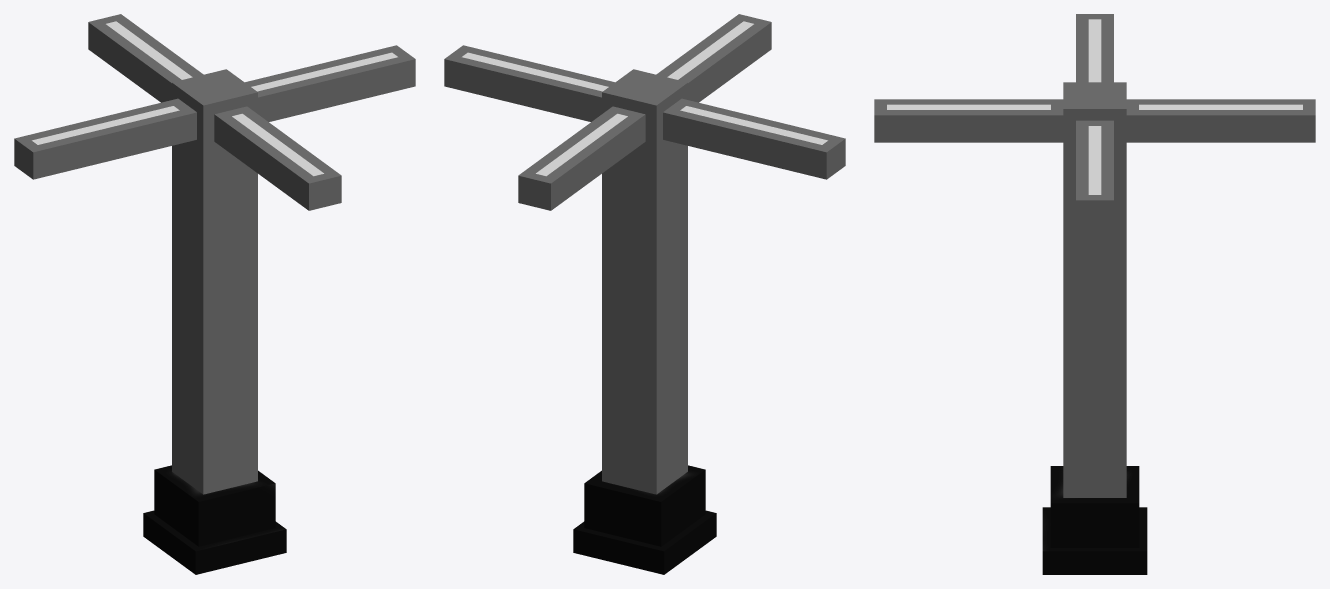
The model's file is electrica.fbx.
3 renders of one model, left to right at view 1: azimuth 30°, elevation 25°; view 2: azimuth 150°, elevation 25°; view 3: azimuth 270°, elevation 25°, orthographic.
Visible parts, largest first — view 1: Box001; view 2: Box001; view 3: Box001.
Part boxes in pixels (box(x1,y1,x2,y2)): Box001: box(14, 14, 415, 574); Box001: box(444, 14, 845, 574); Box001: box(874, 14, 1315, 574).
Size of the model in its own units: 70 by 80 by 70.
Materials: 2 (1 with a texture image).
